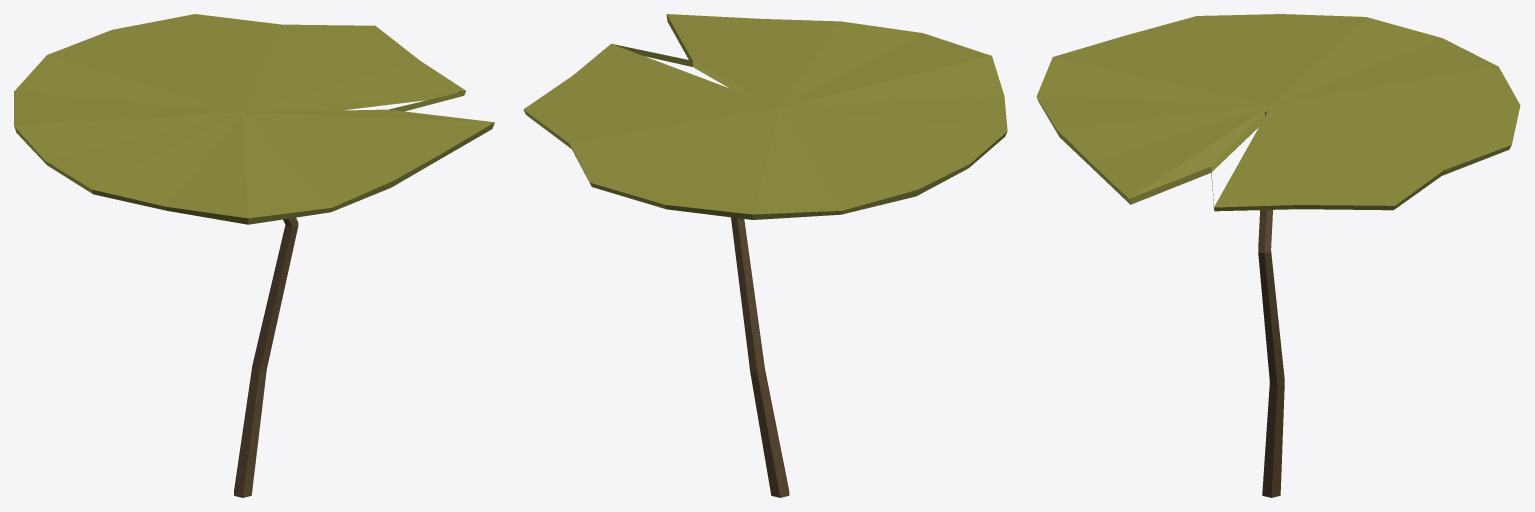
Rendered from plant_004b_lily_pad.glb.
3 renders of one model, left to right at view 1: azimuth 30°, elevation 25°; view 2: azimuth 150°, elevation 25°; view 3: azimuth 270°, elevation 25°, orthographic.
Visible parts, largest first — view 1: plant_004b_lily_pad__pad, plant_004b_lily_pad__stem; view 2: plant_004b_lily_pad__pad, plant_004b_lily_pad__stem; view 3: plant_004b_lily_pad__pad, plant_004b_lily_pad__stem.
Boxes of the visible parts, x1,y1,x2,y2 form: plant_004b_lily_pad__pad: [14, 14, 494, 224]; plant_004b_lily_pad__stem: [234, 217, 298, 497]; plant_004b_lily_pad__pad: [523, 14, 1007, 219]; plant_004b_lily_pad__stem: [731, 217, 789, 497]; plant_004b_lily_pad__pad: [1036, 14, 1520, 211]; plant_004b_lily_pad__stem: [1258, 111, 1284, 497].
Size of the model in its own units: 1.18 by 1.11 by 1.25.
